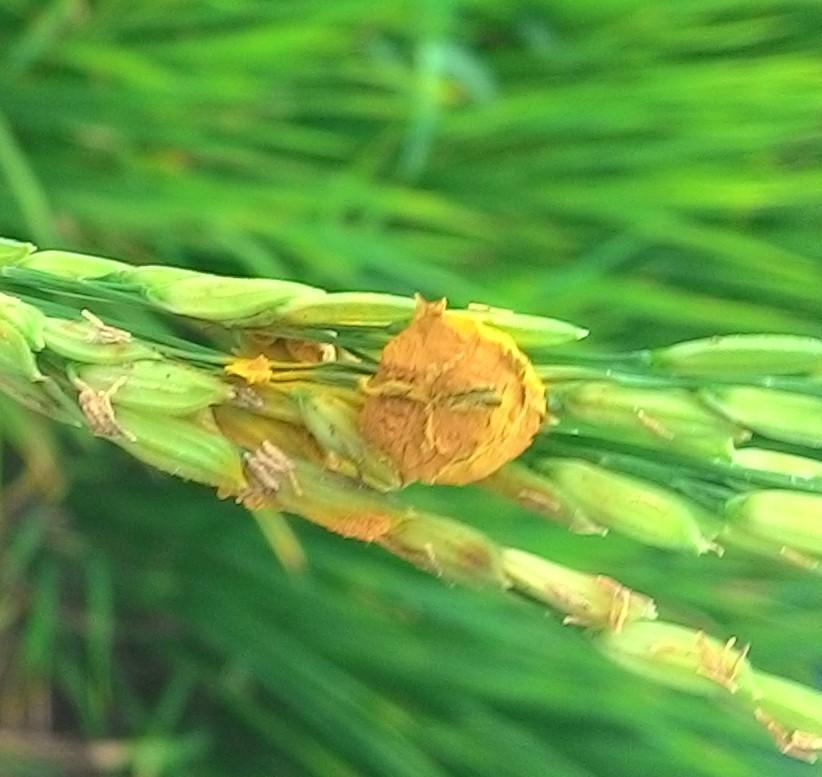False Smut: (360, 300, 550, 496), (234, 310, 342, 380)
